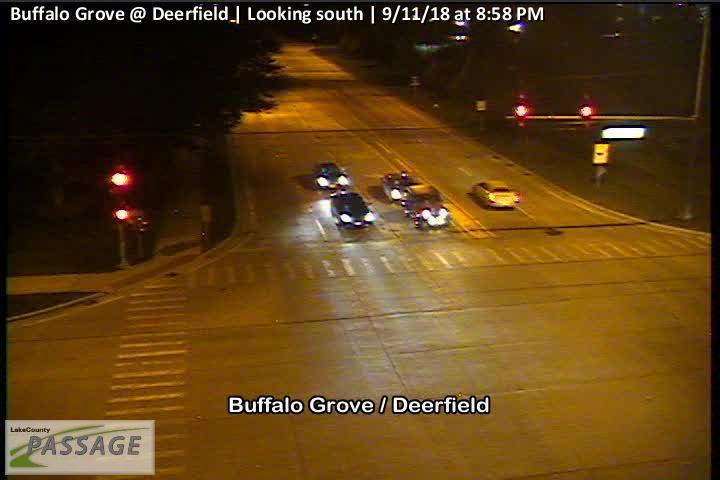SUV: (330, 190, 374, 231)
Sedan: (471, 178, 517, 209)
